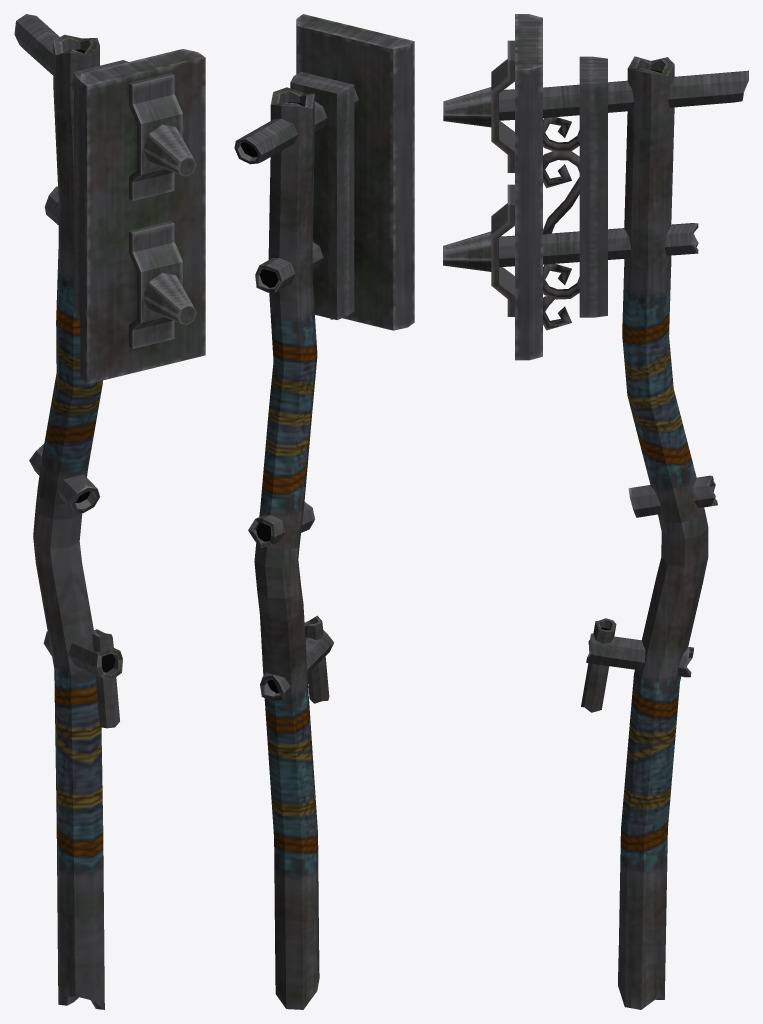
File: LegionAdvancedBlunt.fbx
The picture shows the model from 3 angles, left to right: view 1: azimuth 30°, elevation 25°; view 2: azimuth 150°, elevation 25°; view 3: azimuth 270°, elevation 25°; orthographic projection. The views are drawn at different scales.
Visible parts, largest first — view 1: Cylinder; view 2: Cylinder; view 3: Cylinder.
Part boxes in pixels (bbox=[...]): Cylinder: bbox=[14, 14, 205, 1009]; Cylinder: bbox=[234, 14, 414, 1009]; Cylinder: bbox=[443, 14, 748, 1009].
Size of the model in its own units: 0.0904 by 0.7192 by 0.2082.
